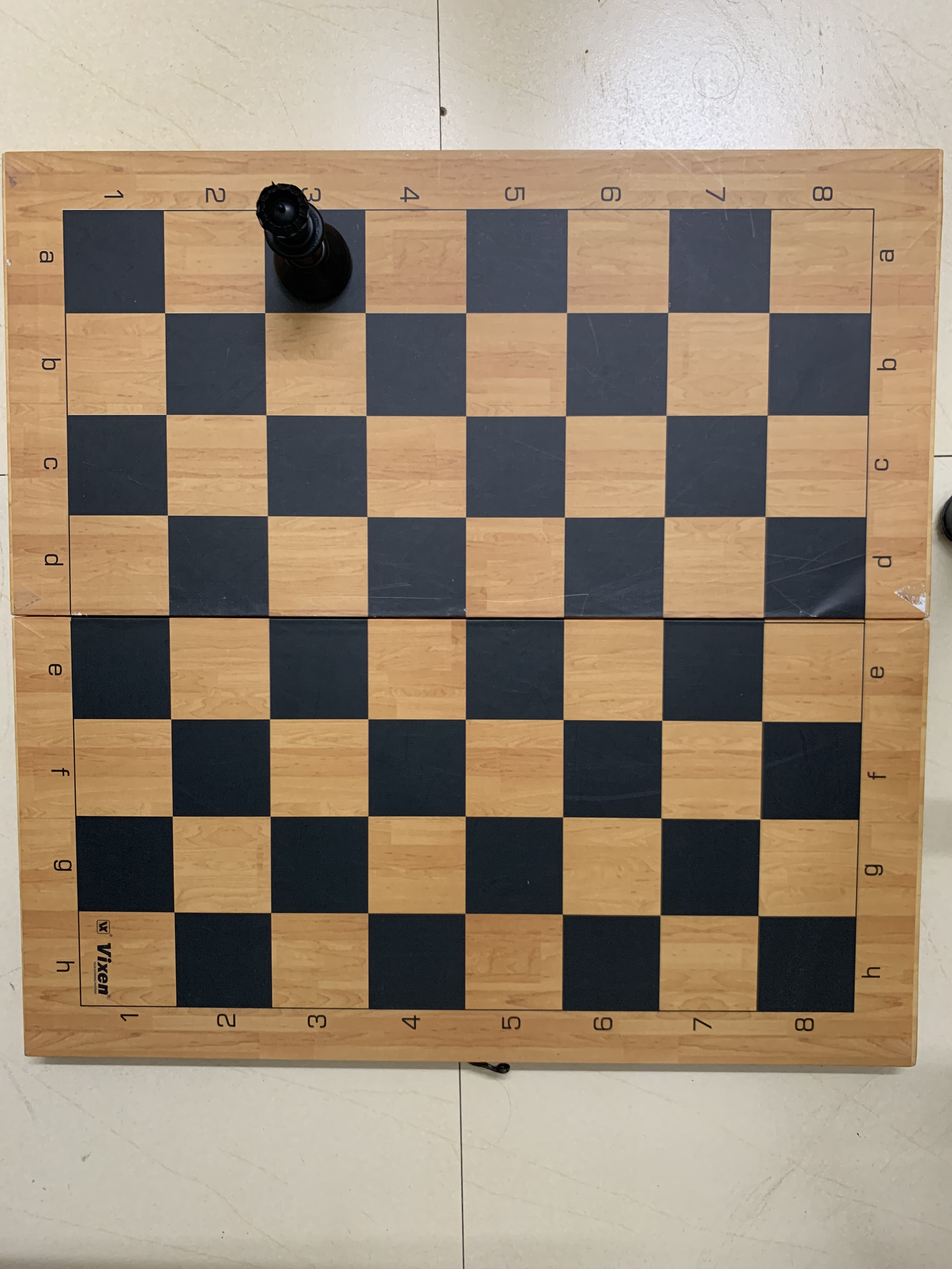black_queen: (250, 182, 363, 313)
